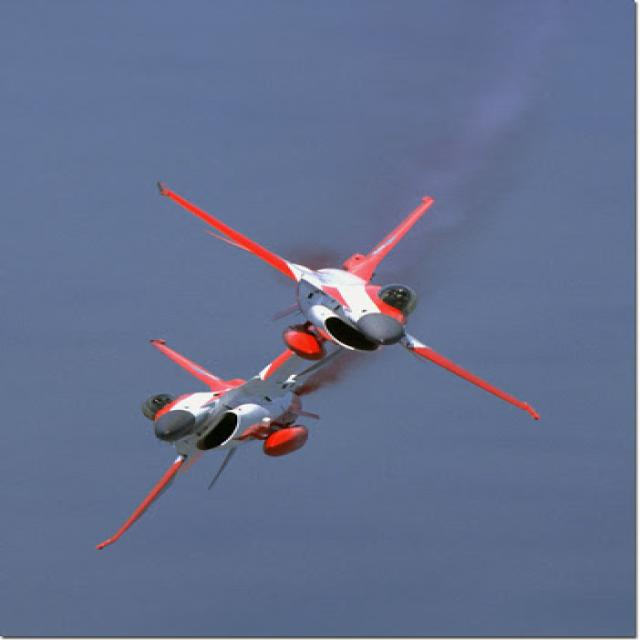MIL_Plane: (155, 179, 543, 421), (95, 329, 341, 551)
